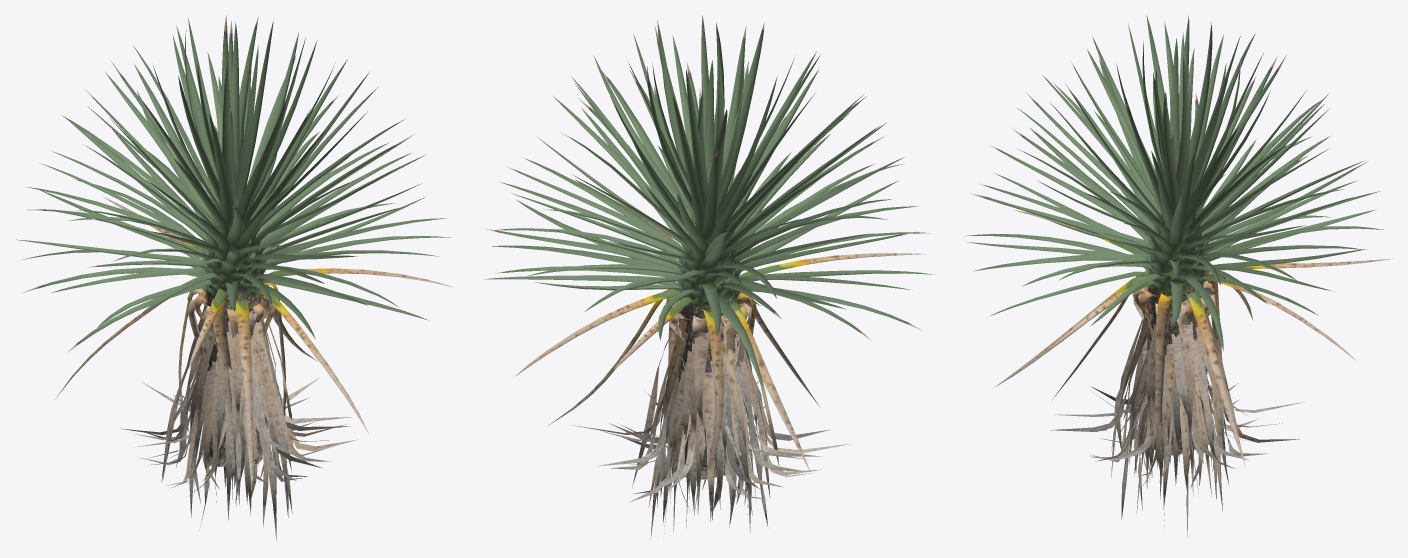
File: p_joshua_tree_a.glb
3 views of the same model, side by side, from view 1: azimuth 30°, elevation 25°; view 2: azimuth 150°, elevation 25°; view 3: azimuth 270°, elevation 25° (orthographic). The views are drawn at different scales.
Visible parts, largest first — view 1: Yucca_brevifolia_HD; view 2: Yucca_brevifolia_HD; view 3: Yucca_brevifolia_HD.
Part boxes in pixels (x1,y1,x2,y2): Yucca_brevifolia_HD: (16, 15, 453, 541); Yucca_brevifolia_HD: (485, 15, 935, 538); Yucca_brevifolia_HD: (964, 15, 1393, 537).
Size of the model in its own units: 0.7507 by 0.9361 by 0.751.
Materials: 4 (4 with a texture image).
